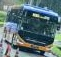bus: (31, 12, 39, 17)
